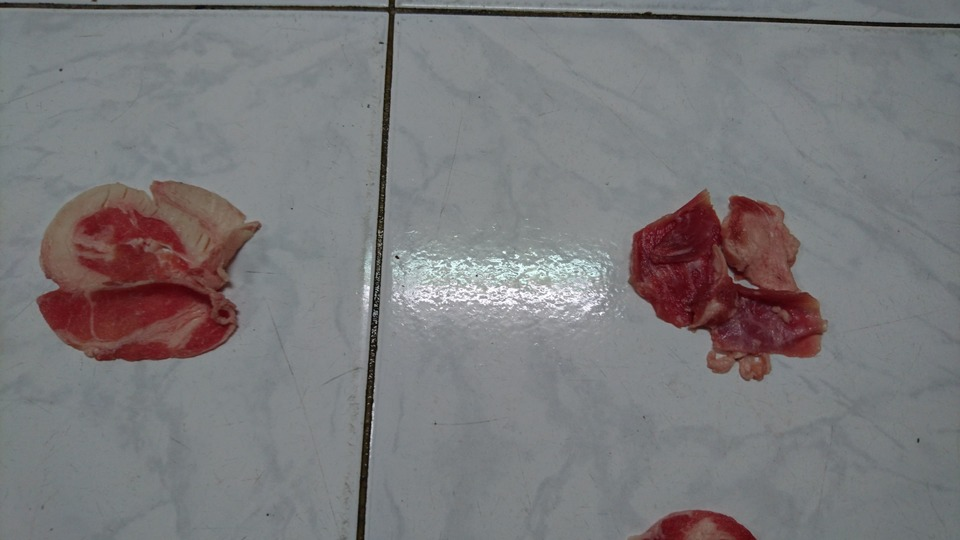restructured meat: (32, 175, 254, 368), (627, 184, 826, 379)
